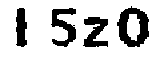0: (117, 6, 153, 50)
5: (47, 3, 78, 54)
I: (13, 6, 33, 53)
z: (83, 15, 113, 52)
